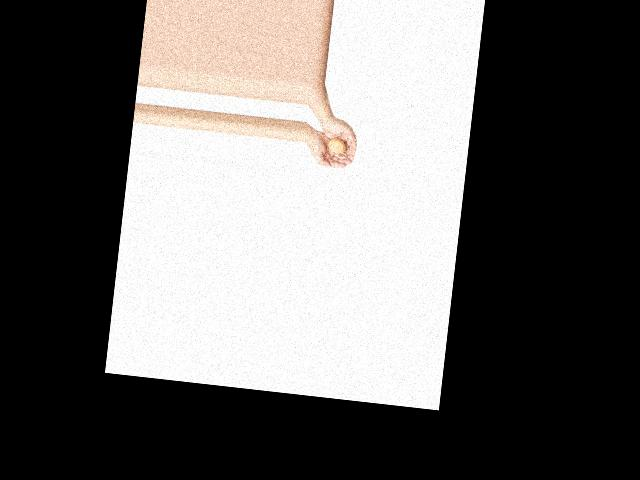egg: (327, 136, 346, 153)
